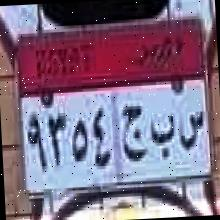3: (45, 109, 69, 170)
4: (90, 102, 113, 175)
5: (68, 114, 90, 168)
9: (23, 108, 46, 174)
baa: (146, 111, 177, 166)
jeem: (117, 98, 148, 168)
seen: (176, 105, 206, 155)
